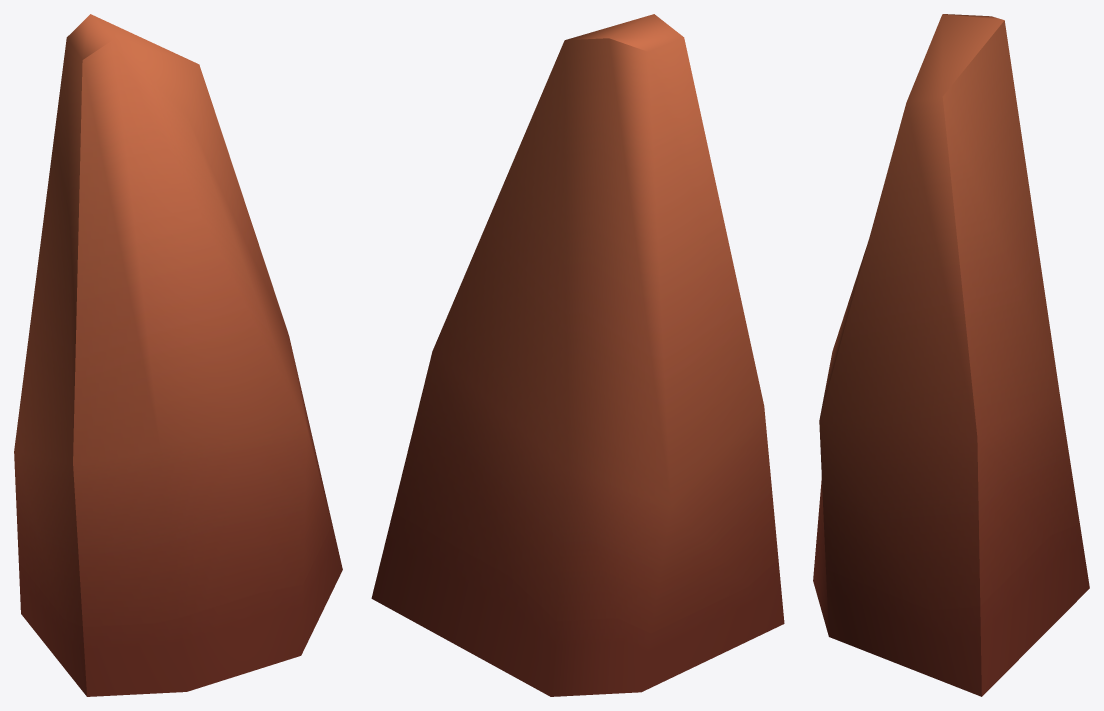
File: rock.006.fbx
3 views of the same model, side by side, from view 1: azimuth 30°, elevation 25°; view 2: azimuth 150°, elevation 25°; view 3: azimuth 270°, elevation 25° (orthographic). The views are drawn at different scales.
Visible parts, largest first — view 1: rock.006; view 2: rock.006; view 3: rock.006.
Part boxes in pixels (x1,y1,x2,y2): rock.006: (14, 14, 342, 696); rock.006: (371, 14, 784, 696); rock.006: (813, 14, 1089, 696).
Bounding box in the file's own units: 1.55 × 2.76 × 1.22.
